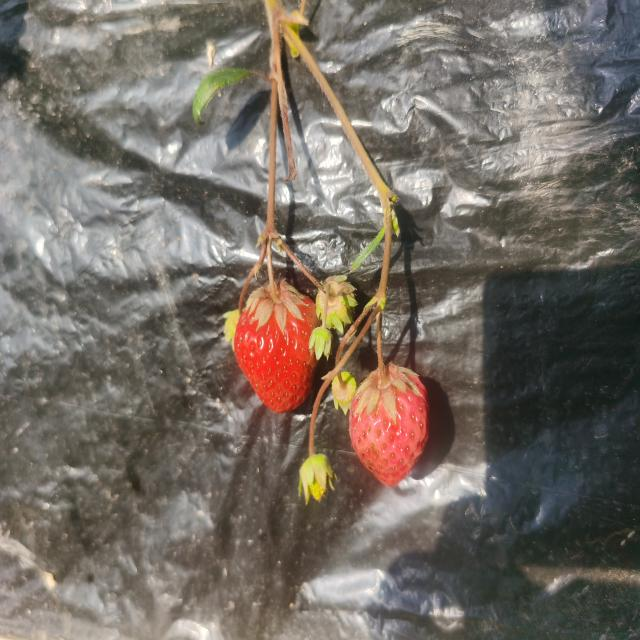stem: (376, 321, 389, 387), (267, 250, 278, 300)
strawberry: (233, 282, 321, 413), (349, 364, 430, 486)
